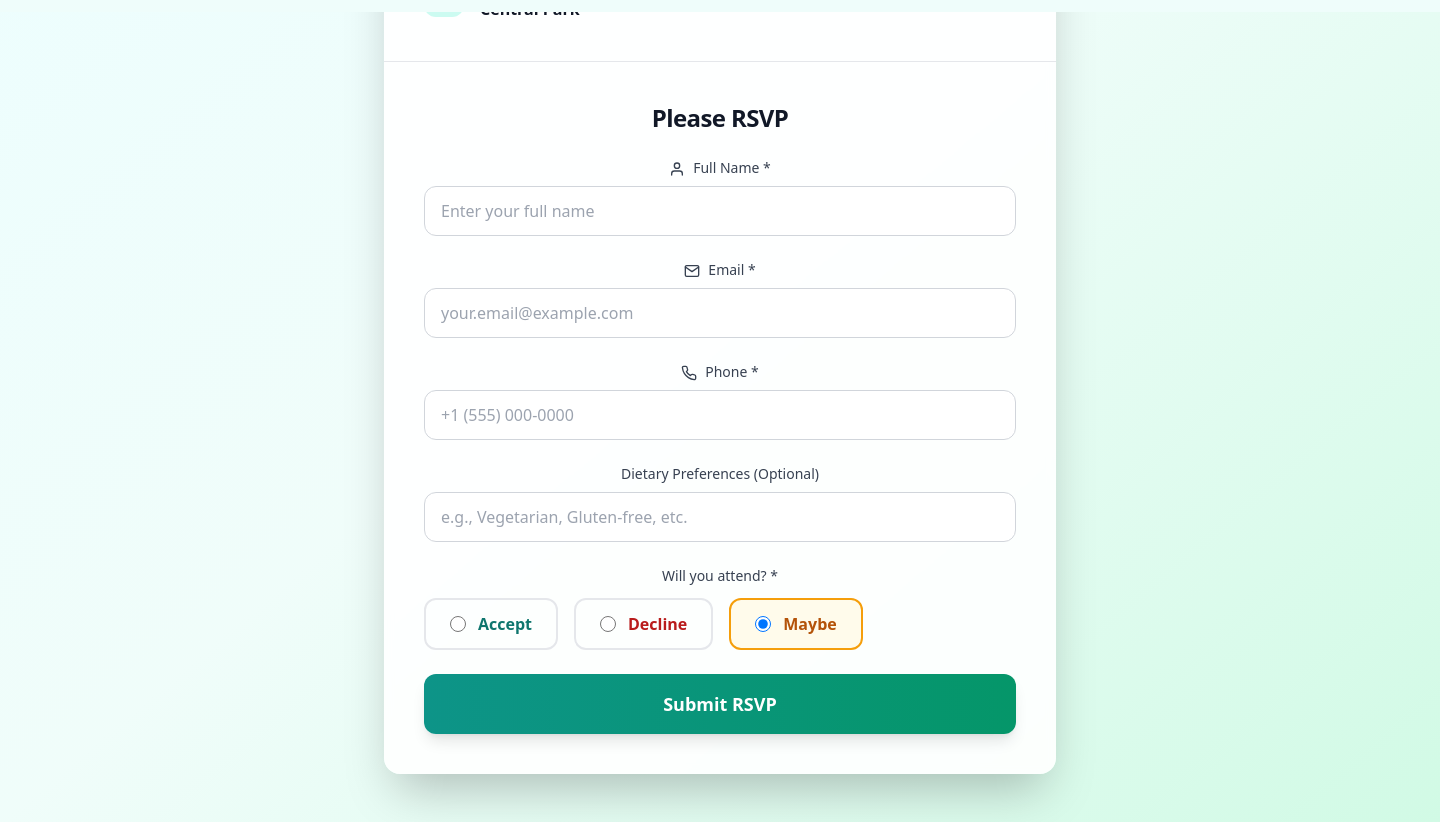
Test case: InvitePage Component › Form Interaction › should change RSVP status to Accepted
The image size is (1440, 822).
(page scrolled)
Click the radio button labelled "Accept" at (458,624), box [450,616,466,632]
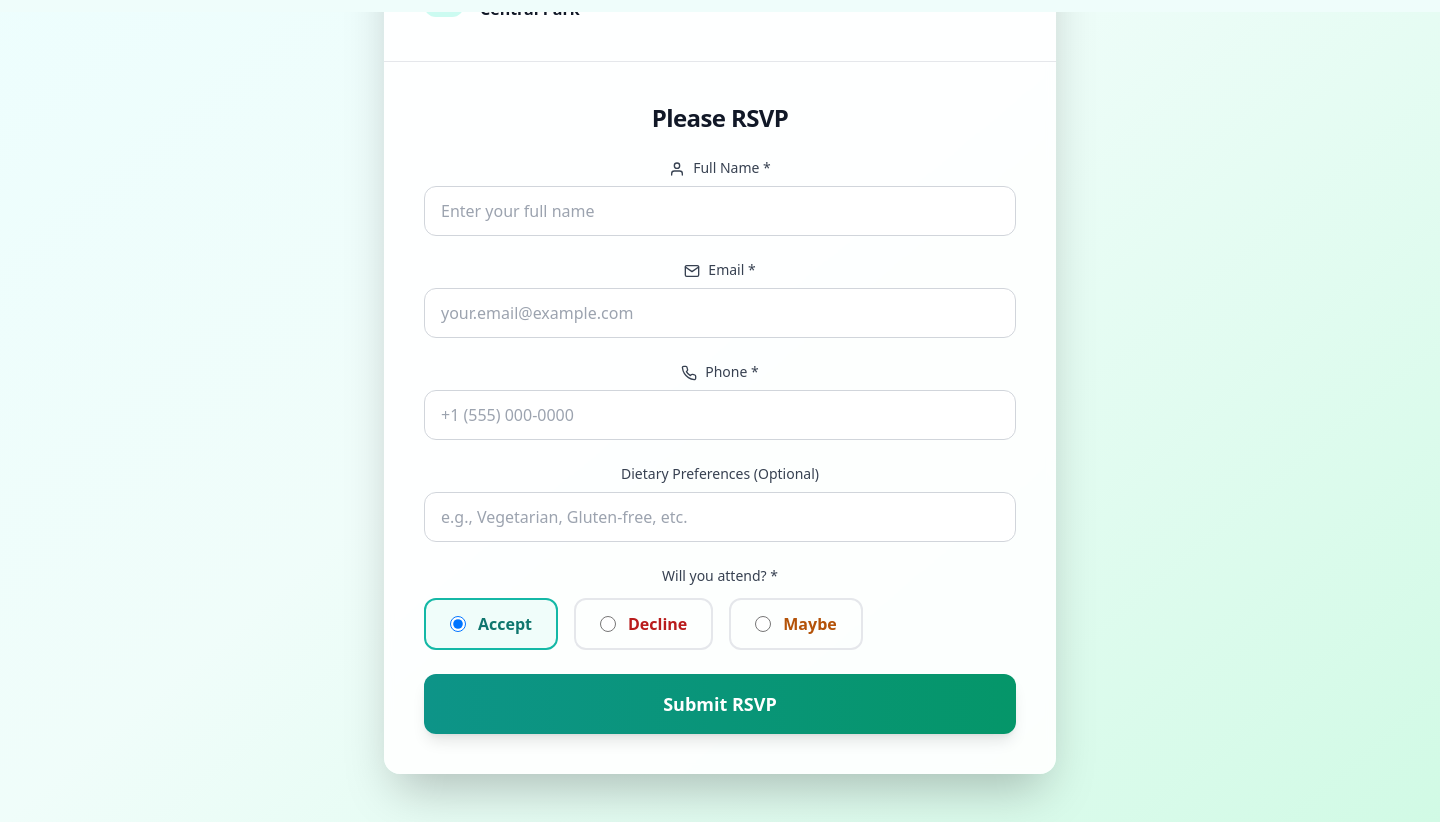
Expected: the radio button labelled "Decline" is not checked, [600,616,616,632]
Expected: the radio button labelled "Accept" is checked, [450,616,466,632]
Expected: the radio button labelled "Maybe" is not checked, [755,616,771,632]
